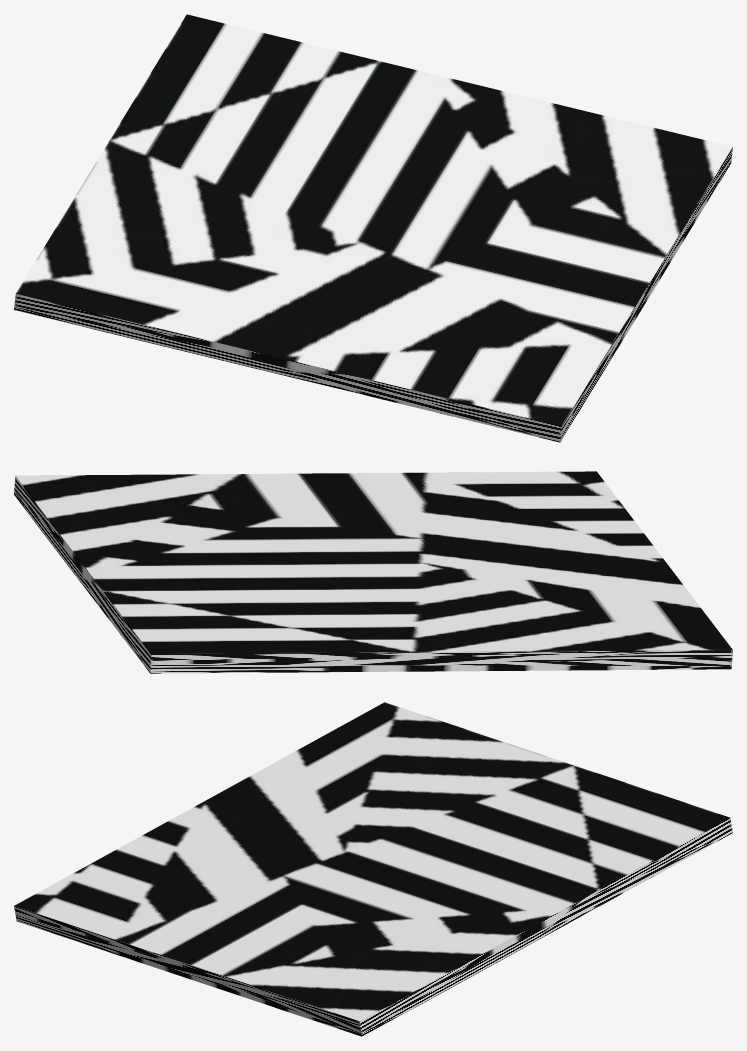
3 renders of one model, top to bottom at view 1: azimuth 30°, elevation 25°; view 2: azimuth 150°, elevation 25°; view 3: azimuth 270°, elevation 25°, orthographic. The views are drawn at different scales.
Parts seen in each view (by area): view 1: Cube.041; view 2: Cube.041; view 3: Cube.041.
Boxes of the visible parts, x1,y1,x2,y2 form: Cube.041: (14,14,732,442); Cube.041: (14,471,732,673); Cube.041: (14,702,732,1036).
Size of the model in its own units: 8.12 by 1.42 by 8.05.
Materials: 1 (1 with a texture image).
